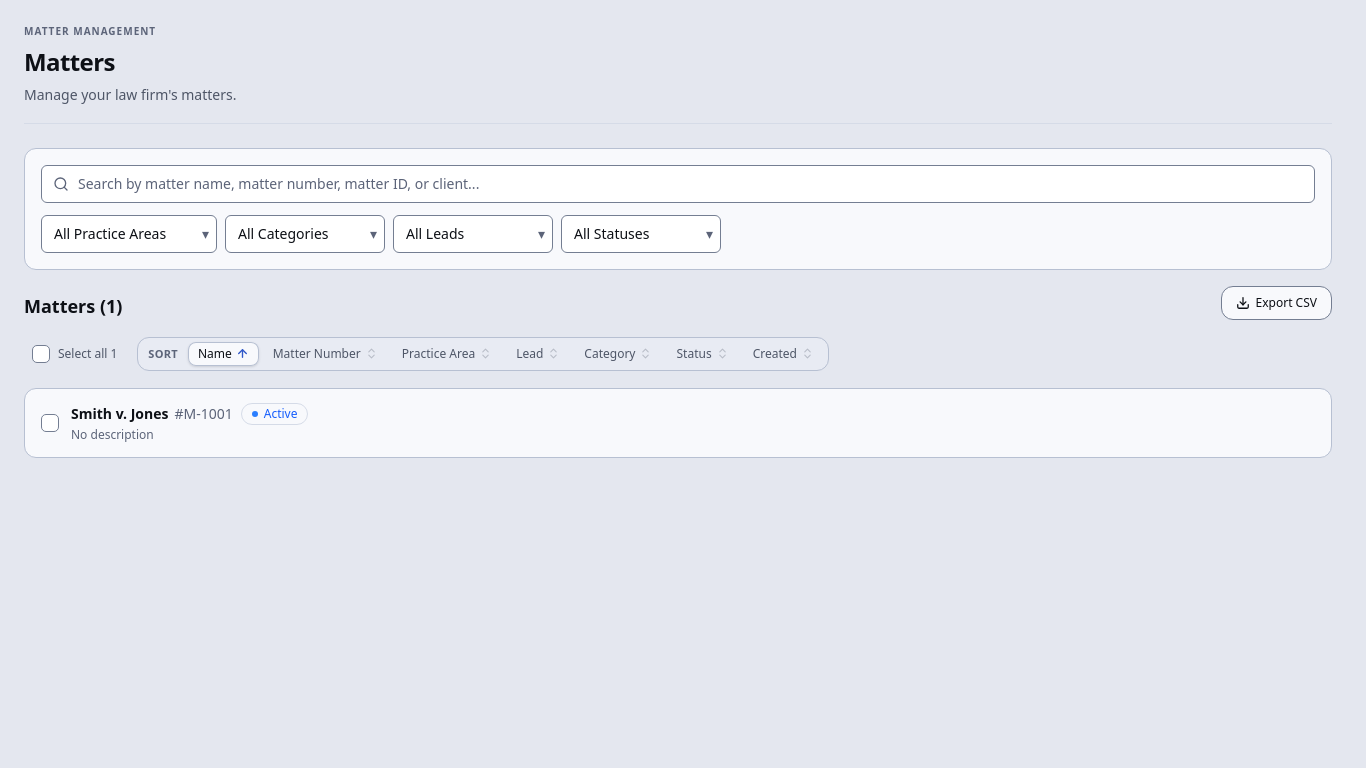
Test: keeps the result on screen, including a matter that was refused
Expected: the text "Smith v. Jones" is shown, 71,404 -> 168,423
Click the checkbox named "Select row" at (50, 423), box 41,414 -> 59,432
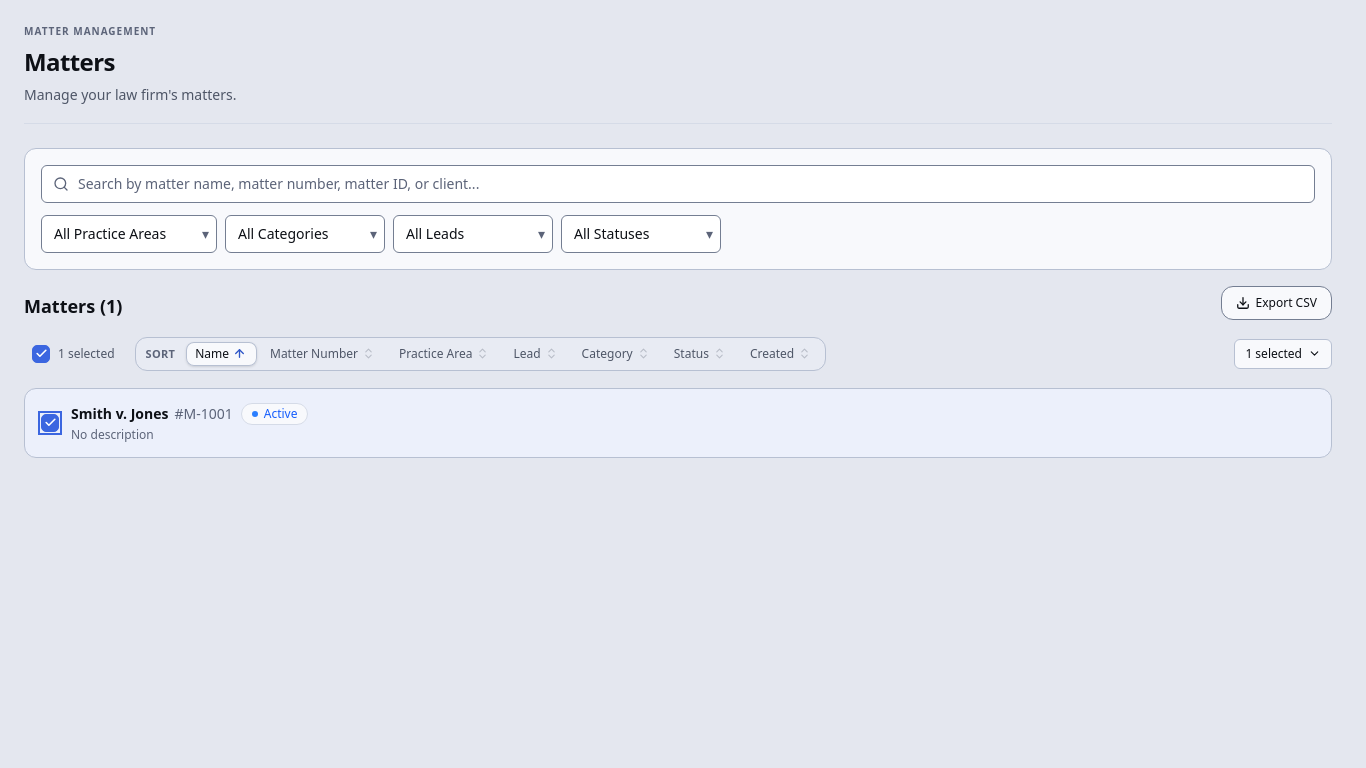
Click the button "1 selected" at (1283, 354), box 1234,339 -> 1332,369
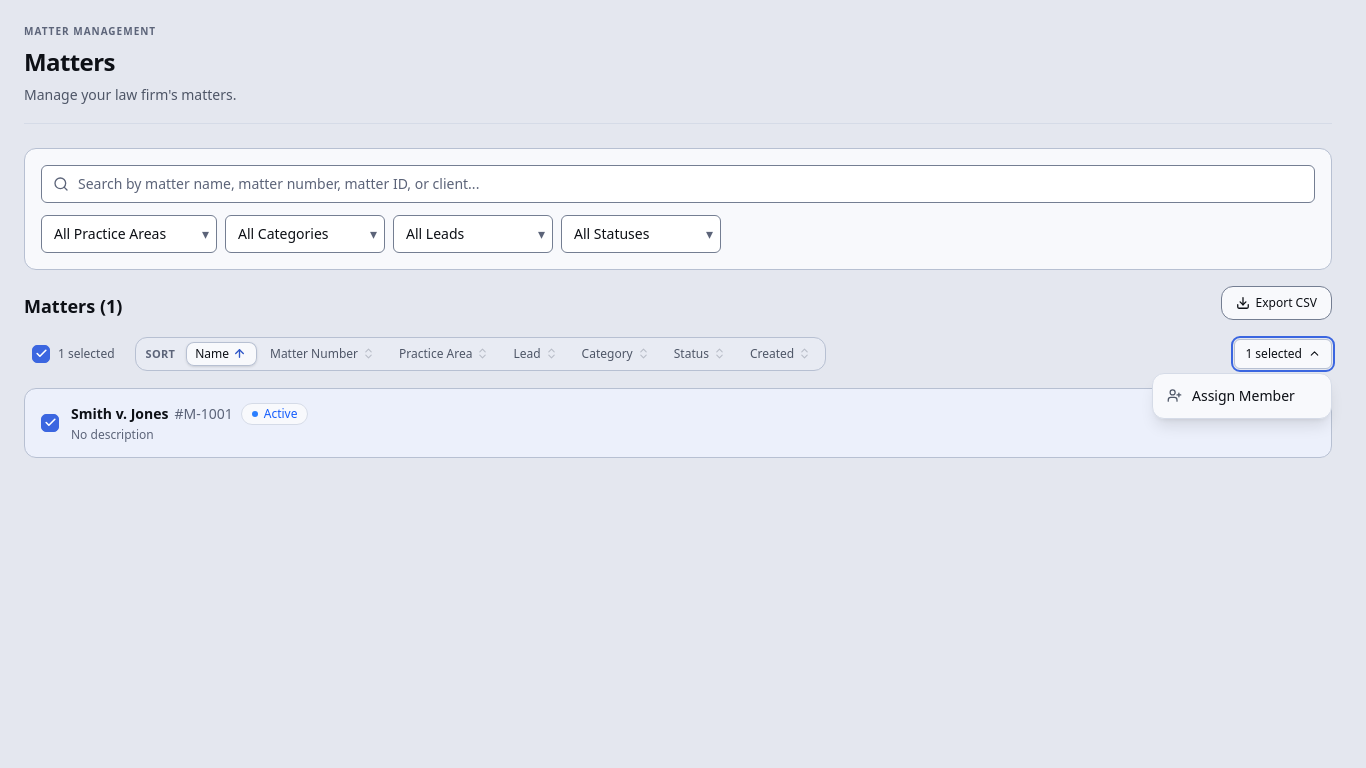
Click the button "Assign Member" at (1242, 396), box 1157,378 -> 1327,414
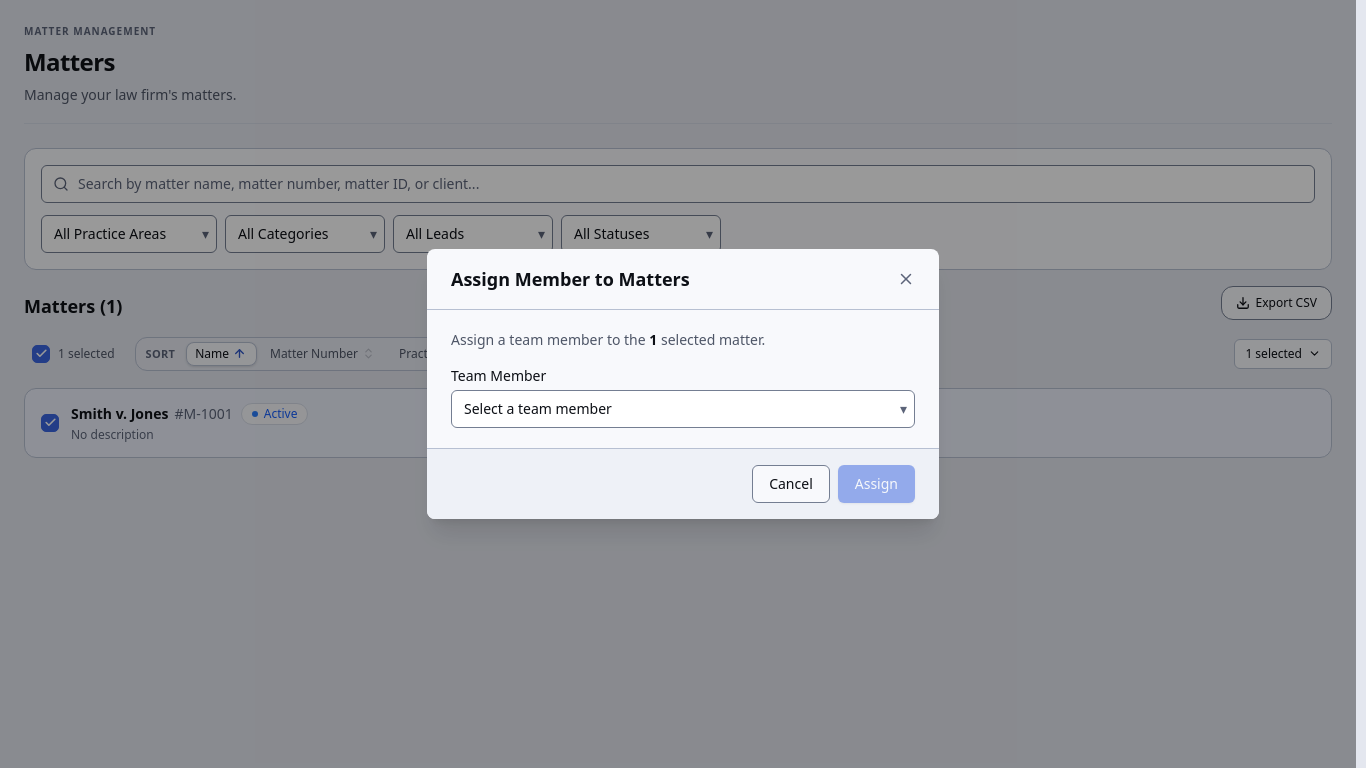
Click the button "Select a team member ▾" at (538, 408), box 451,390 -> 915,428
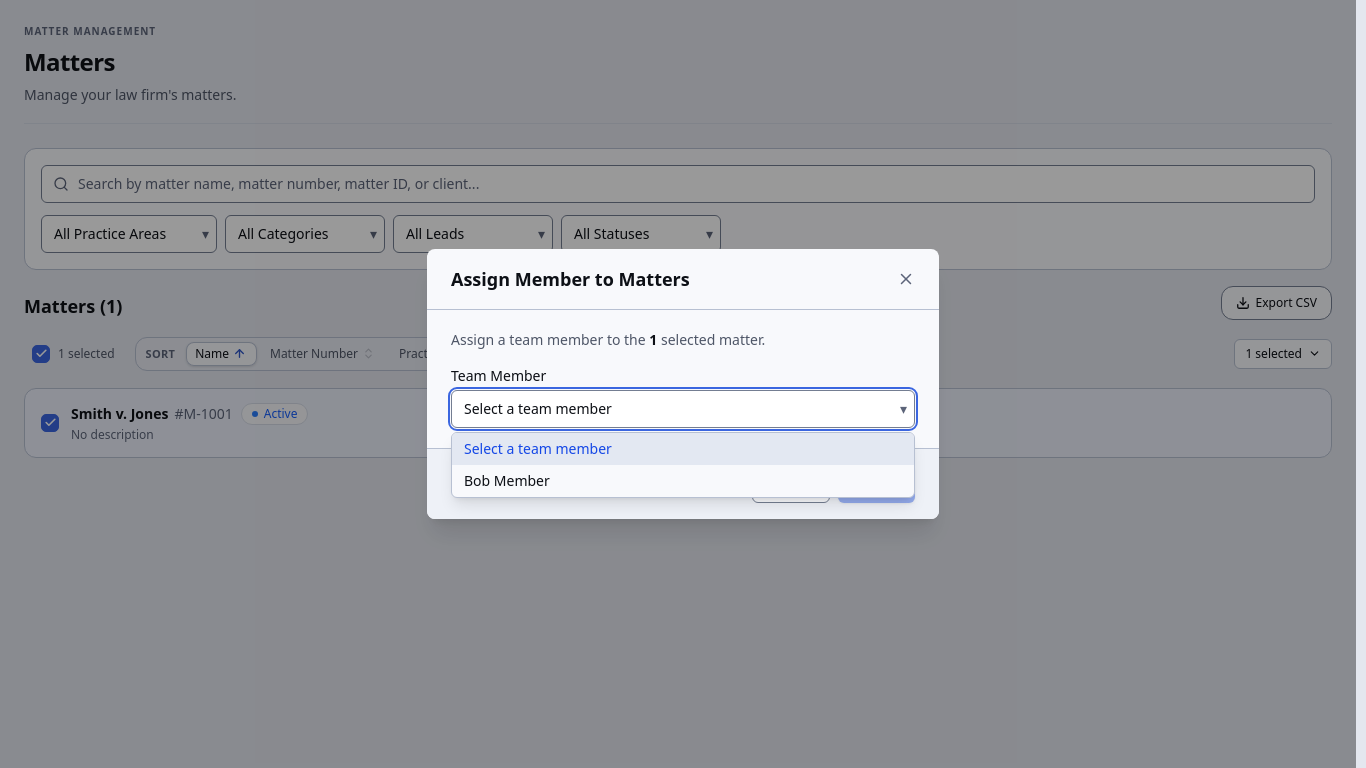
Click the option "Bob Member" at (507, 480), box 464,471 -> 550,490
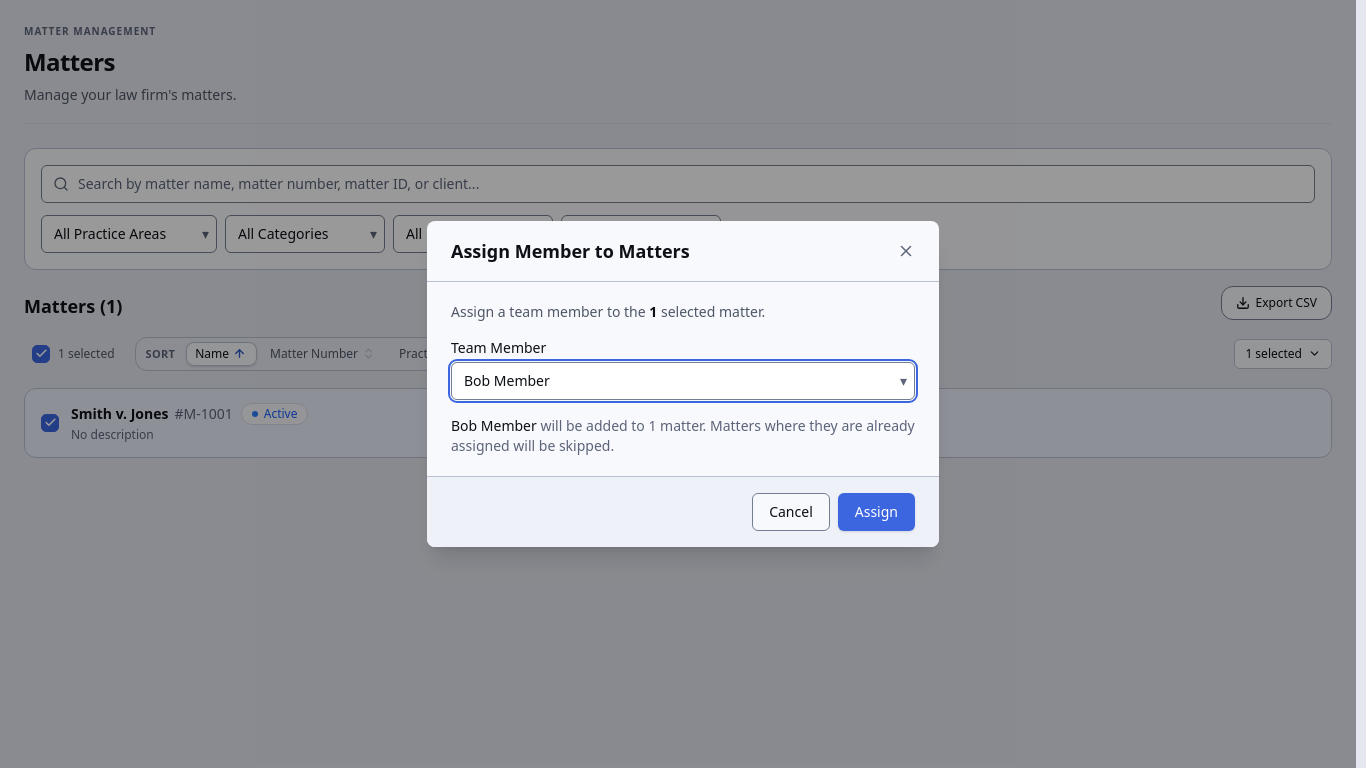
Click the button "Assign" at (876, 512), box 838,493 -> 915,531
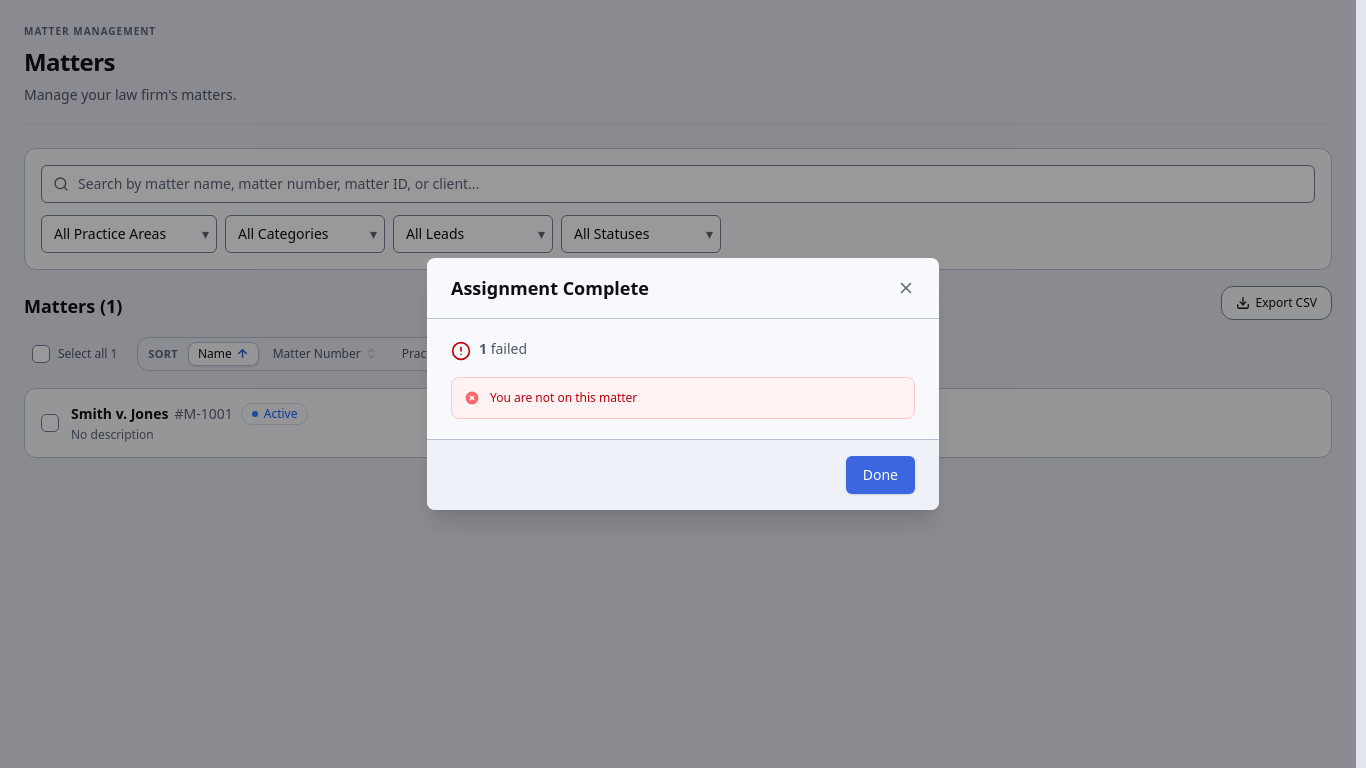
Expected: the text "1 failed" is shown, 479,339 -> 527,359
Expected: the text "You are not on this matter" is shown, 490,389 -> 637,406
Expected: the dialog "Assignment Complete" is shown, 427,258 -> 939,510
